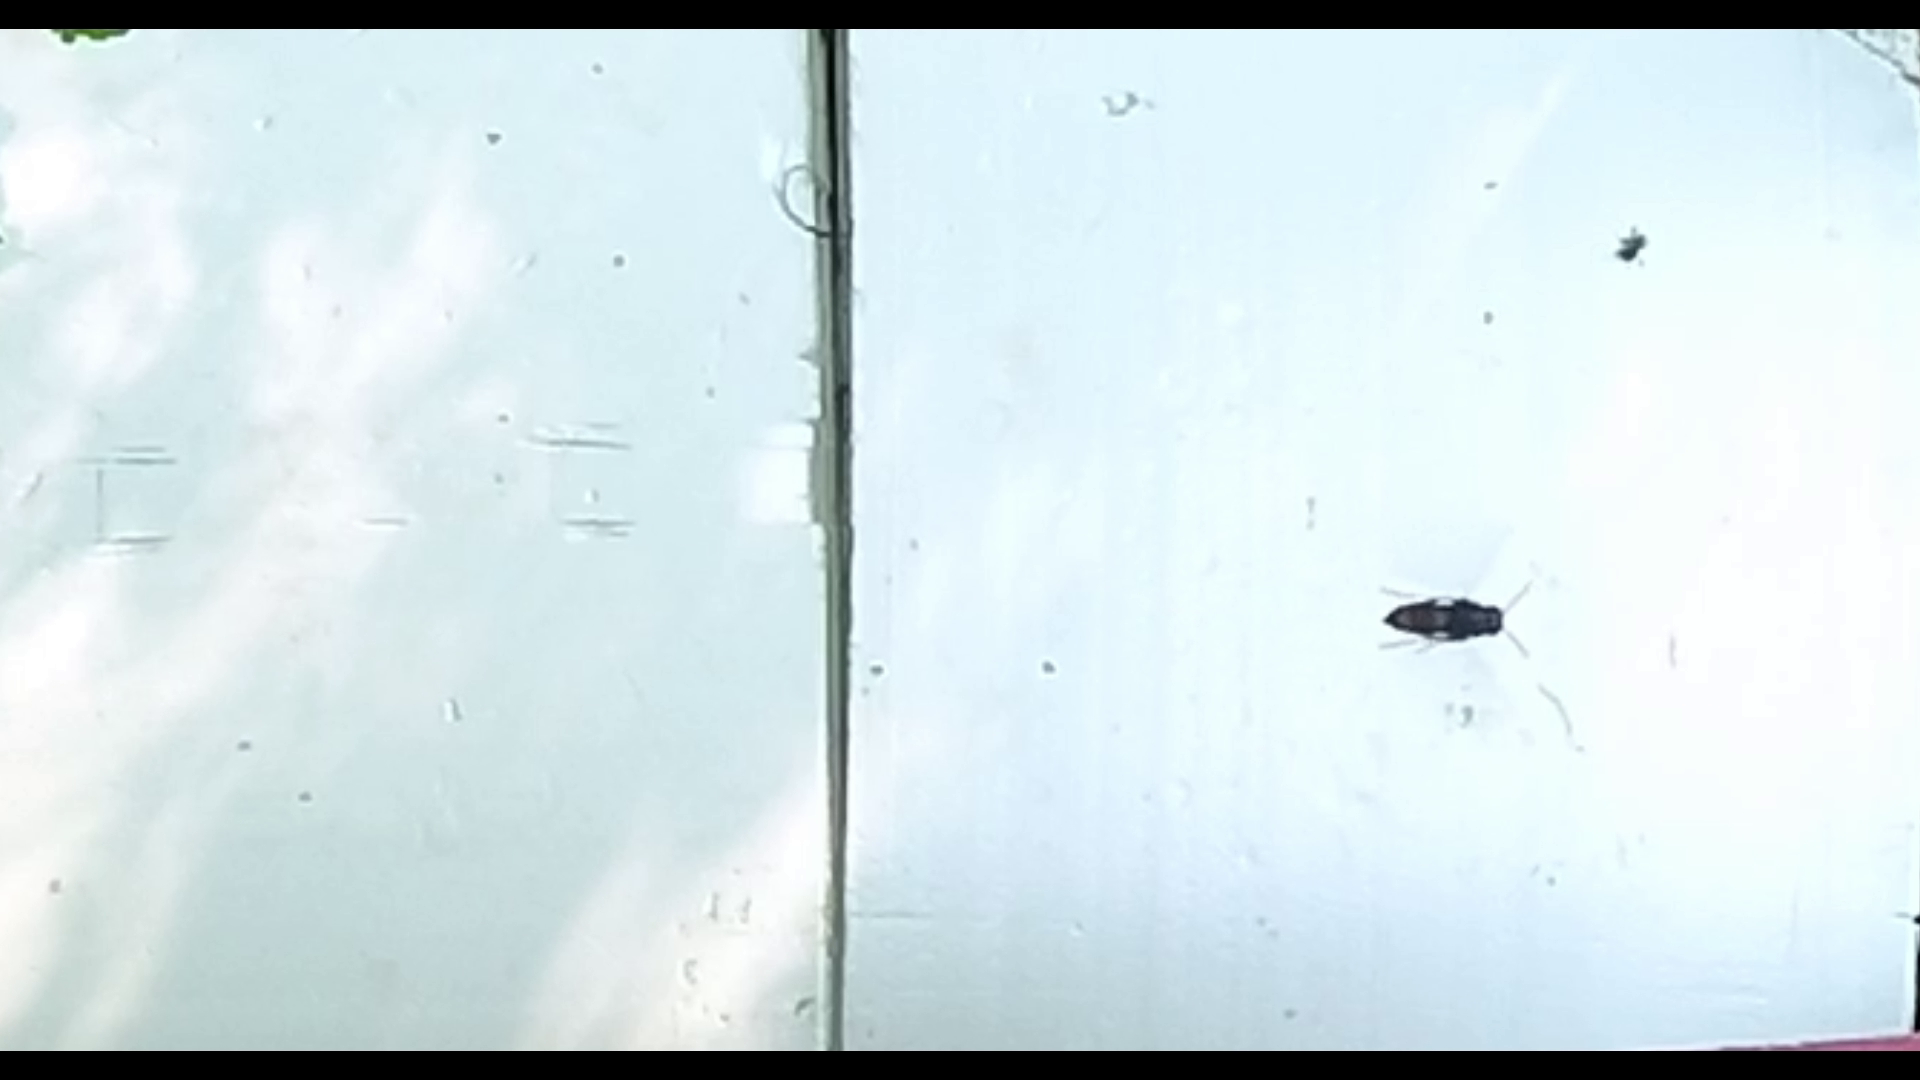Asian_hornets: (1365, 563, 1551, 682)
